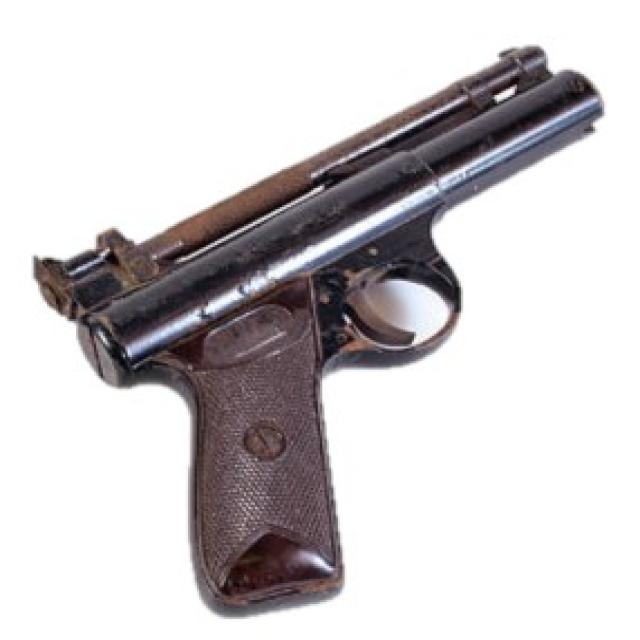pistol: (25, 41, 614, 625)
